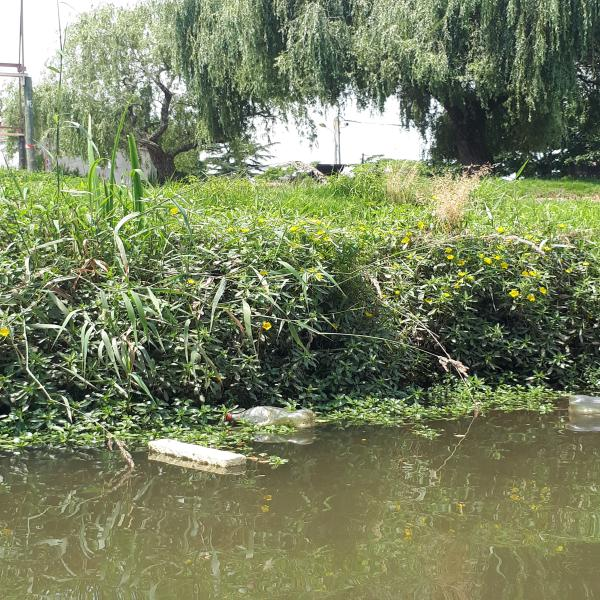bottles: (222, 403, 312, 429), (557, 392, 597, 417)
others: (135, 435, 254, 474)
